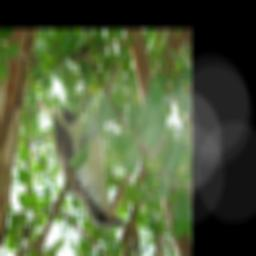Cuckoo: (51, 102, 125, 230)
